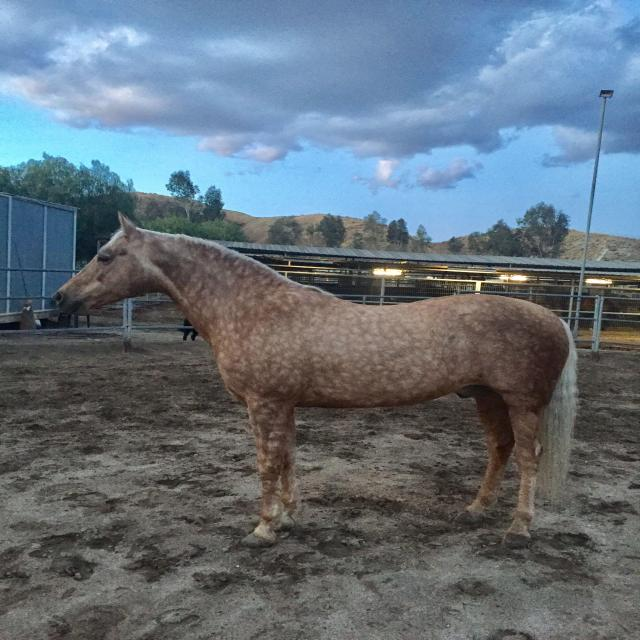horse: (50, 210, 580, 550)
